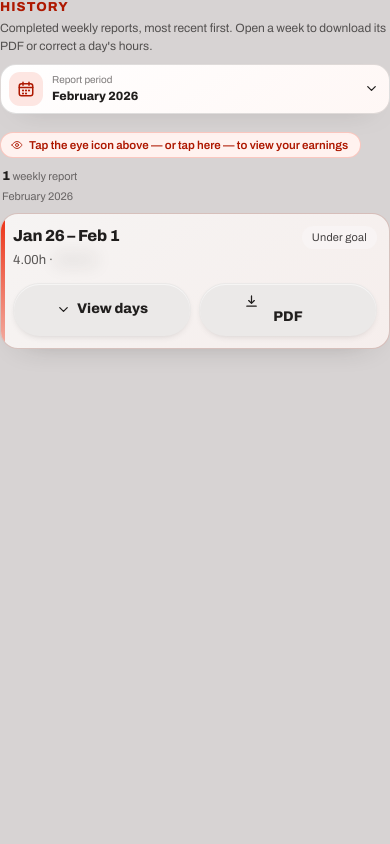
Test: the per-week download action › shows only the current month by default and can reveal all completed reports
Check: the heading "Jan 26 – Feb 1" is shown, box [13,227,120,244]
Check: the heading "Jan 19" is not shown
What coordinates should you click on to do the following:
click the button with aria-label "Choose report date range"
I would click on:
 (26, 89)
Its box is [0,64,389,114].
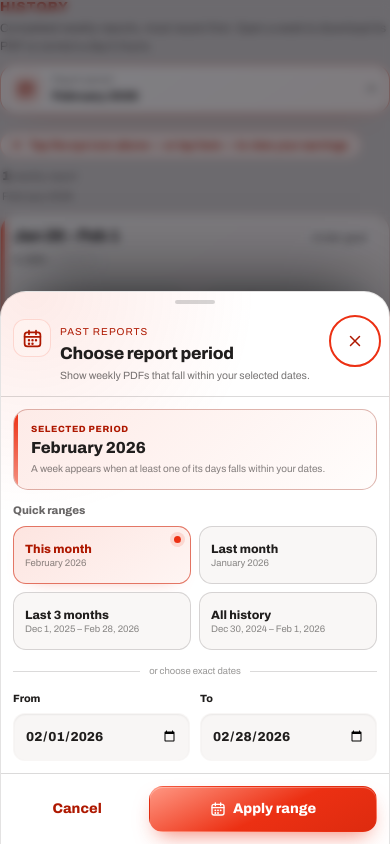
Check: the dialog "Choose report period" is shown
What coordinates should you click on to do the following:
click the button "All history Dec 30, 2024 – Feb 1, 2026"
I would click on:
 (288, 621)
Its box is [199,592,377,650].
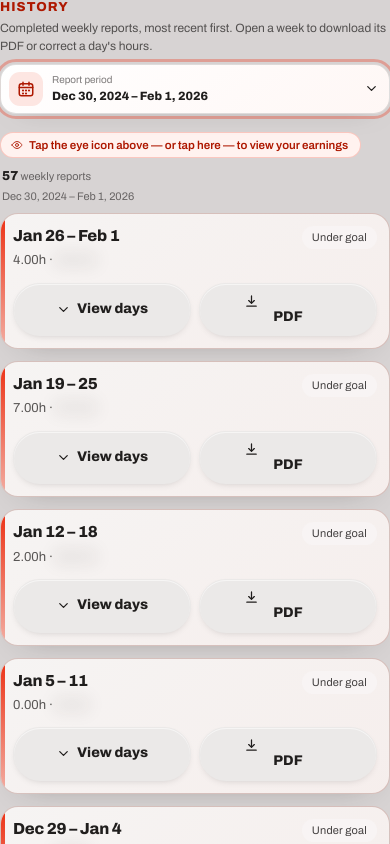
Check: the heading "Jan 19 – 25" is shown, box [13,375,97,392]
Check: the heading "Jan 12 – 18" is shown, box [13,523,97,540]
